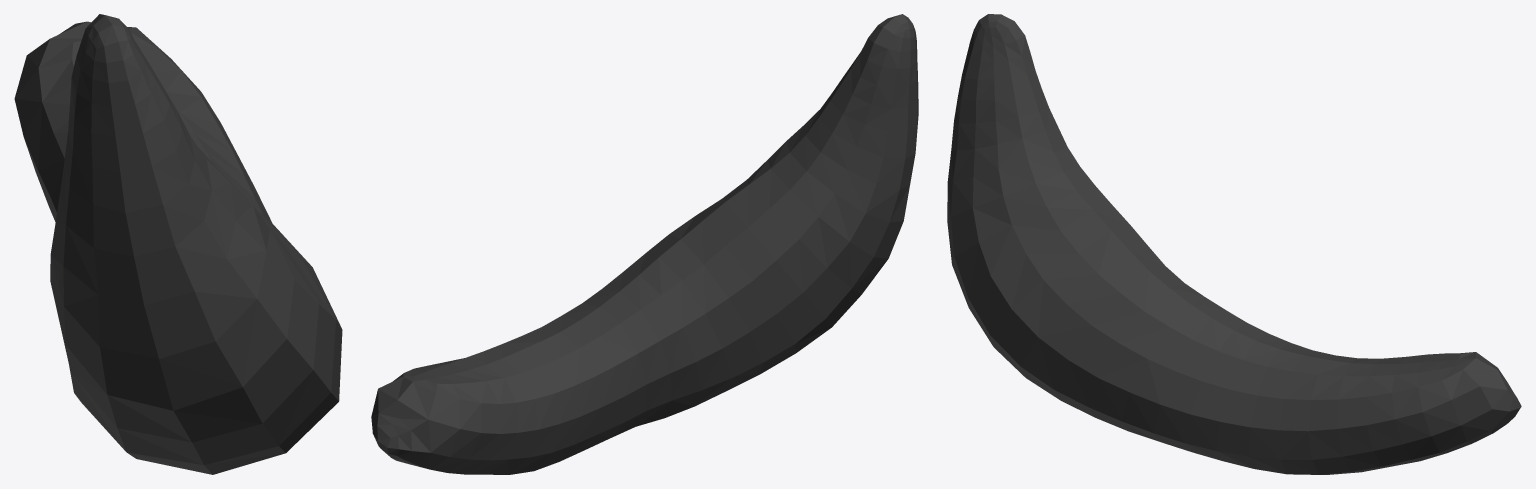
File: L_mand_canine_copy000.glb
3 renders of one model, left to right at view 1: azimuth 30°, elevation 25°; view 2: azimuth 150°, elevation 25°; view 3: azimuth 270°, elevation 25°, orthographic. The views are drawn at different scales.
Visible parts, largest first — view 1: L_mand_canine_copy000; view 2: L_mand_canine_copy000; view 3: L_mand_canine_copy000.
Part boxes in pixels (left/top/right/bottom): L_mand_canine_copy000: left=14, top=14, right=342, bottom=474; L_mand_canine_copy000: left=371, top=14, right=918, bottom=474; L_mand_canine_copy000: left=947, top=14, right=1521, bottom=474.
Bounding box in the file's own units: 0.1153 × 0.1387 × 0.2001.
1 material, 1 textured.
